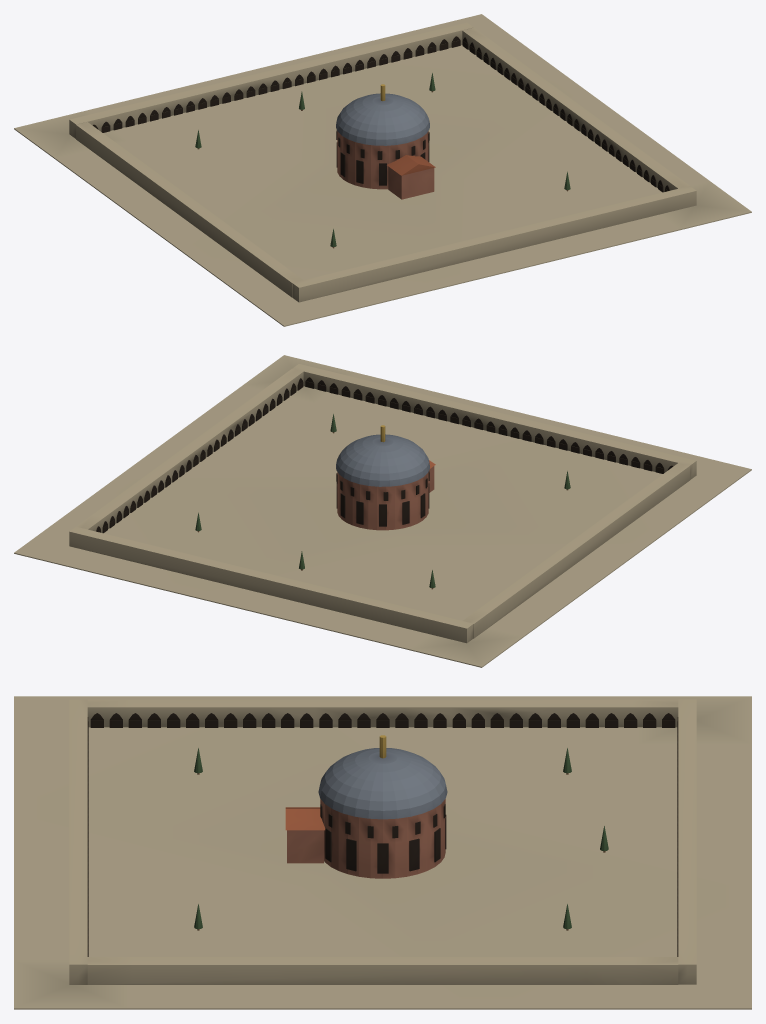
Rendered from holy-apostles-337.glb.
The picture shows the model from 3 angles, top to bottom: view 1: azimuth 30°, elevation 25°; view 2: azimuth 150°, elevation 25°; view 3: azimuth 270°, elevation 25°; orthographic projection. The views are drawn at different scales.
Parts seen in each view (by area): view 1: p0_precinct, p2_dome, p1_mausoleum; view 2: p0_precinct, p2_dome, p1_mausoleum; view 3: p0_precinct, p2_dome, p1_mausoleum.
Part boxes in pixels (x1=…): p0_precinct: x1=14, y1=14, x2=751, y2=326; p2_dome: x1=195, y1=73, x2=570, y2=248; p1_mausoleum: x1=336, y1=130, x2=429, y2=189; p0_precinct: x1=14, y1=355, x2=751, y2=667; p2_dome: x1=195, y1=414, x2=570, y2=589; p1_mausoleum: x1=336, y1=471, x2=429, y2=530; p0_precinct: x1=14, y1=696, x2=751, y2=1009; p2_dome: x1=194, y1=735, x2=608, y2=930; p1_mausoleum: x1=320, y1=799, x2=446, y2=878.
Size of the model in its own units: 200 by 35.03 by 200.
